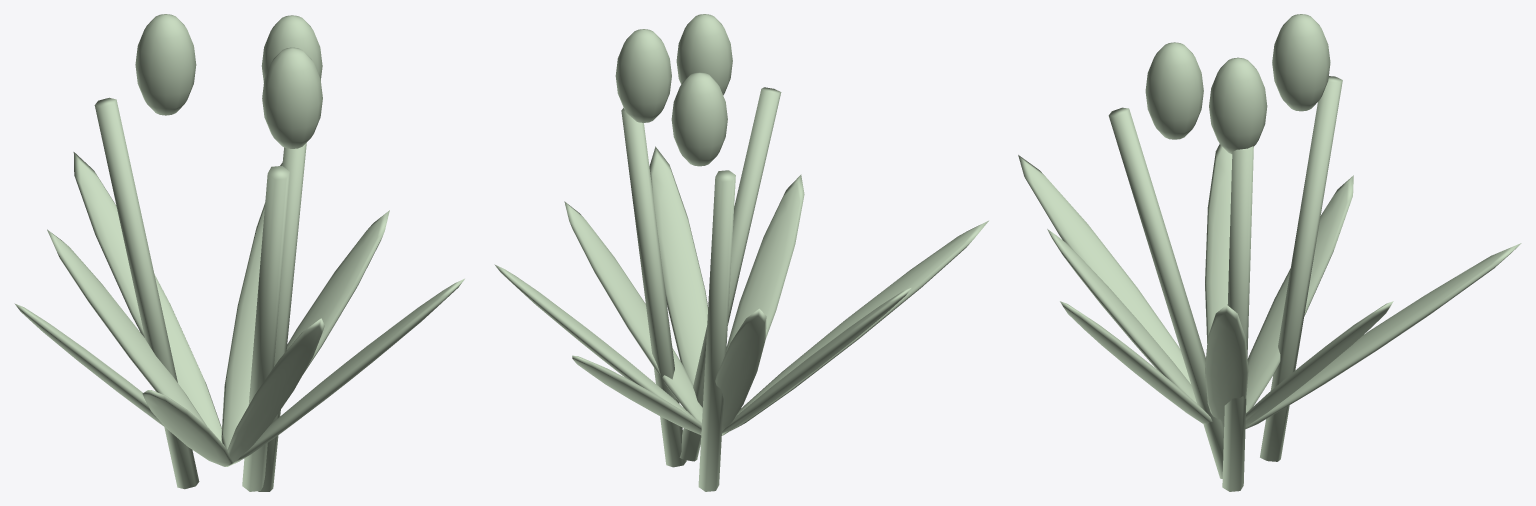
File: VCrop_Lavender_3.fbx
3 views of the same model, side by side, from view 1: azimuth 30°, elevation 25°; view 2: azimuth 150°, elevation 25°; view 3: azimuth 270°, elevation 25° (orthographic). The views are drawn at different scales.
Visible parts, largest first — view 1: VCrop_Lavender_3; view 2: VCrop_Lavender_3; view 3: VCrop_Lavender_3.
Part boxes in pixels (x1,y1,x2,y2): VCrop_Lavender_3: [14, 14, 464, 491]; VCrop_Lavender_3: [494, 14, 988, 491]; VCrop_Lavender_3: [1018, 14, 1521, 491].
Bounding box in the file's own units: 0.228 × 0.2686 × 0.2762.
